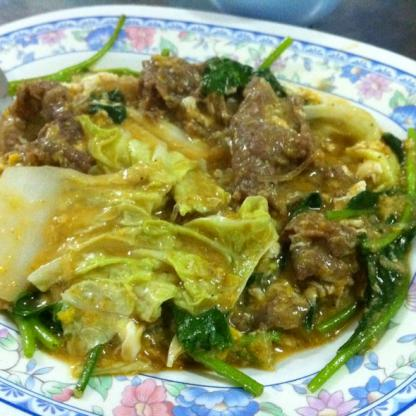Laadna: (0, 41, 407, 386)
